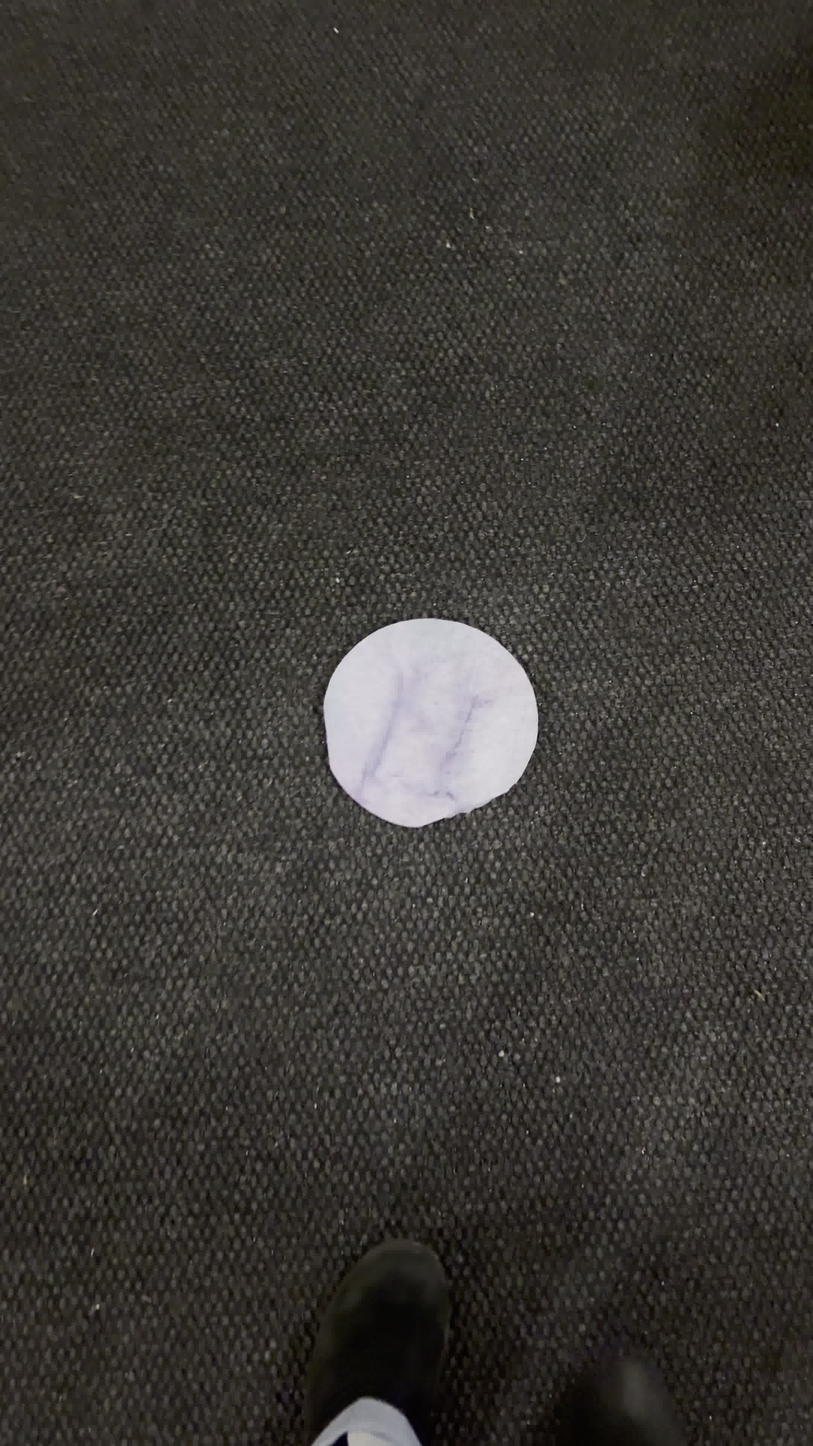Target: (322, 615, 537, 828)
